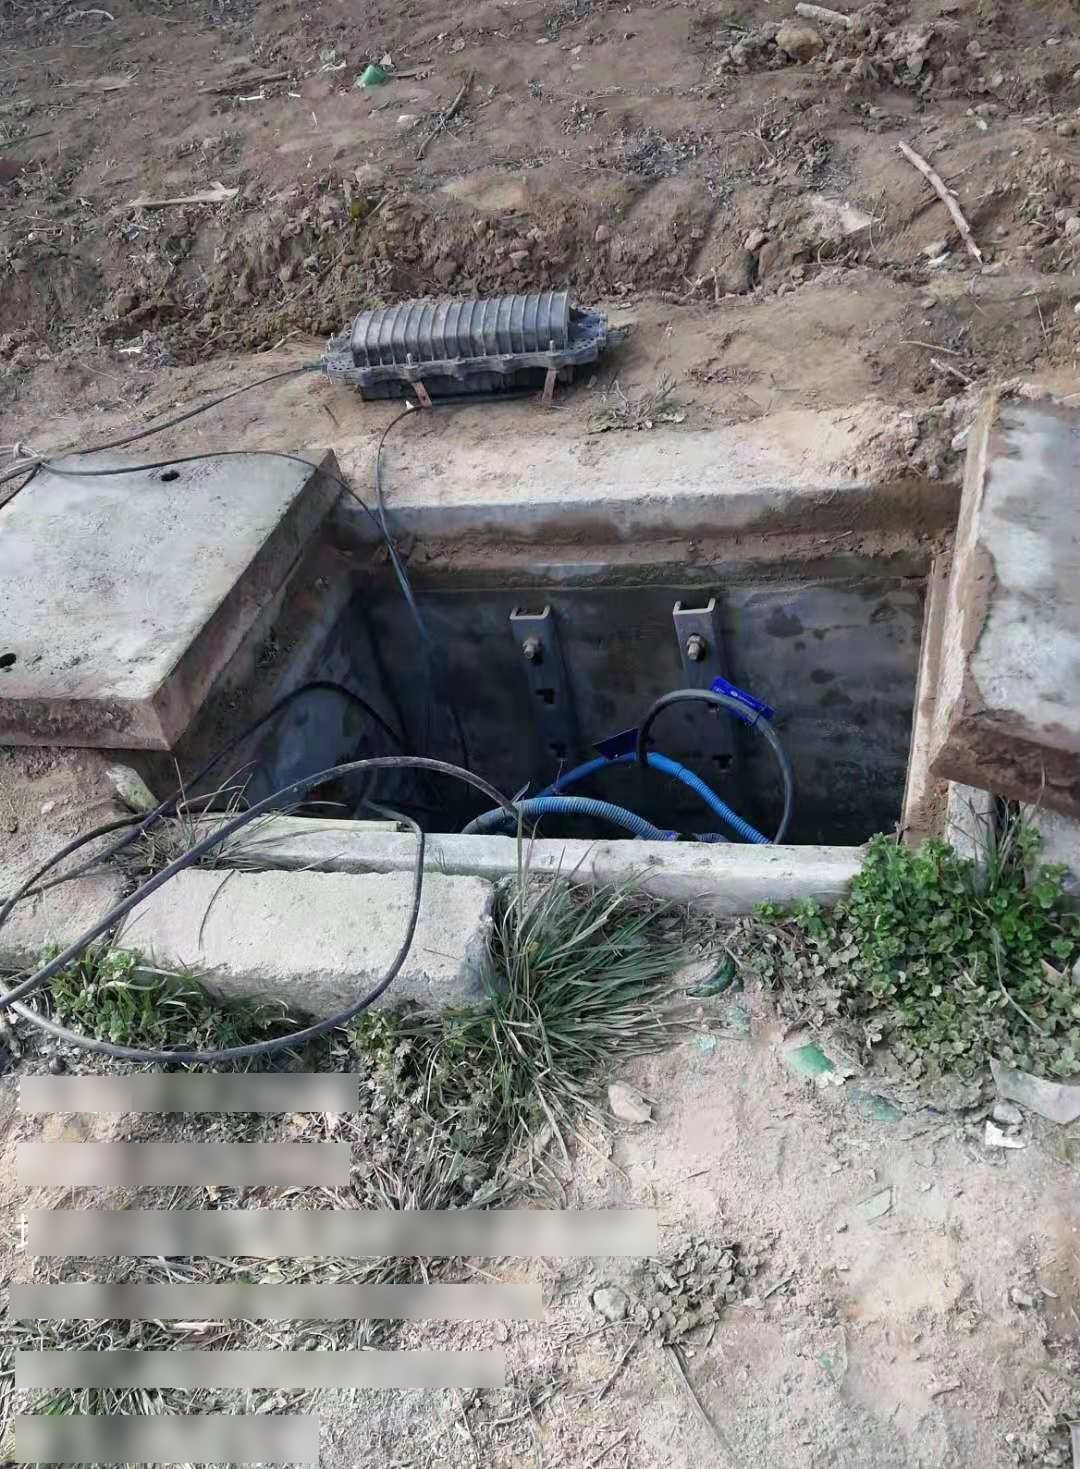uncovered: (13, 385, 1080, 883)
